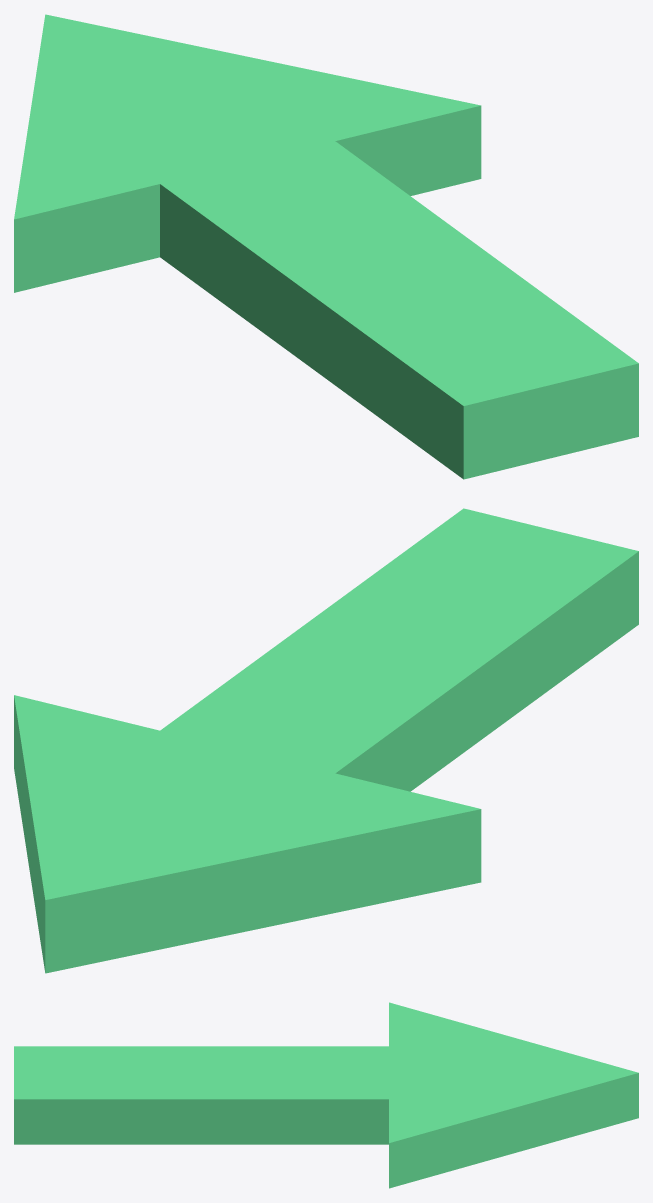
File: arrow.glb
3 views of the same model, one above another, from view 1: azimuth 30°, elevation 25°; view 2: azimuth 150°, elevation 25°; view 3: azimuth 270°, elevation 25° (orthographic). The views are drawn at different scales.
Visible parts, largest first — view 1: NavigationArrow; view 2: NavigationArrow; view 3: NavigationArrow.
Part boxes in pixels (x1=…): NavigationArrow: x1=14, y1=14, x2=638, y2=479; NavigationArrow: x1=14, y1=508, x2=638, y2=973; NavigationArrow: x1=14, y1=1002, x2=638, y2=1188.
Bounding box in the file's own units: 0.8 × 0.12 × 1.5.
